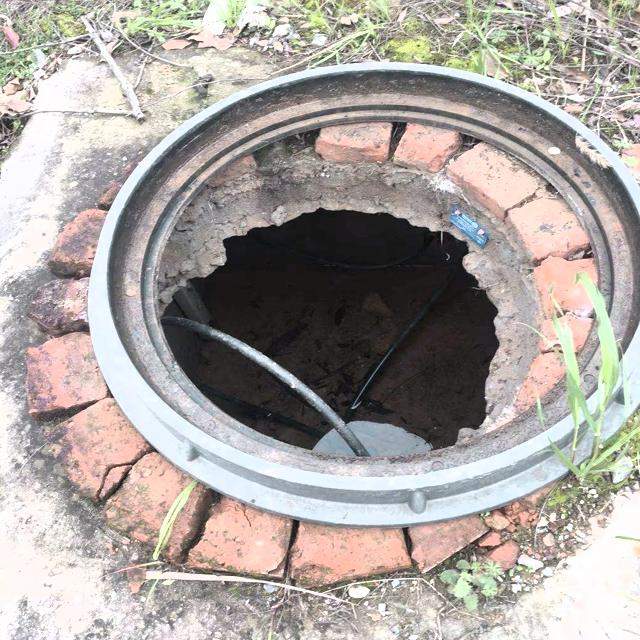lose: (87, 63, 640, 529)
